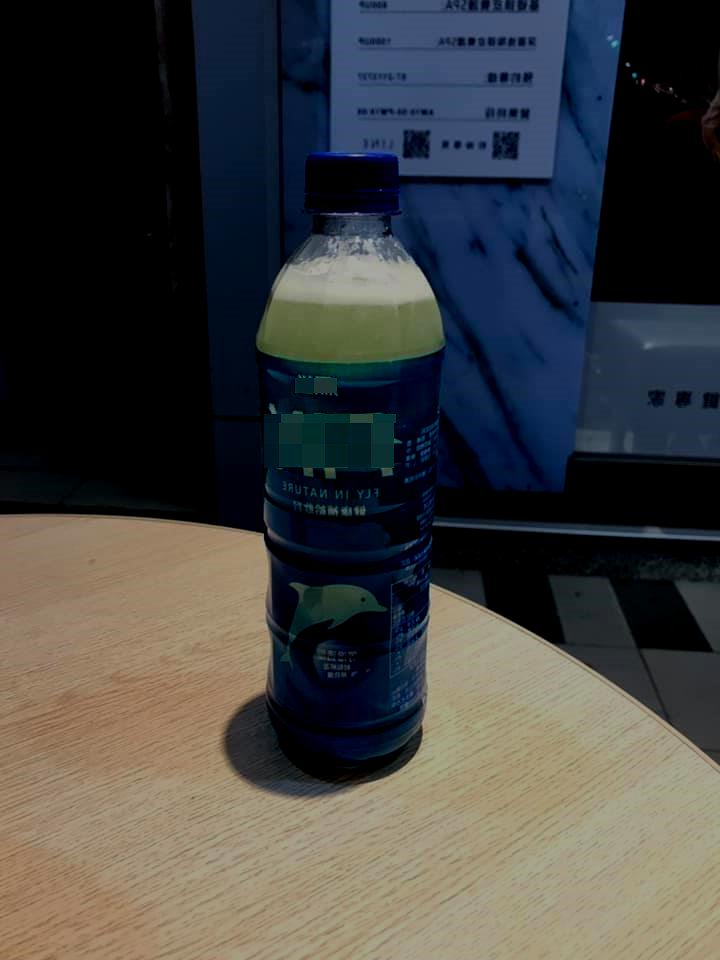bottle: (254, 153, 446, 796)
